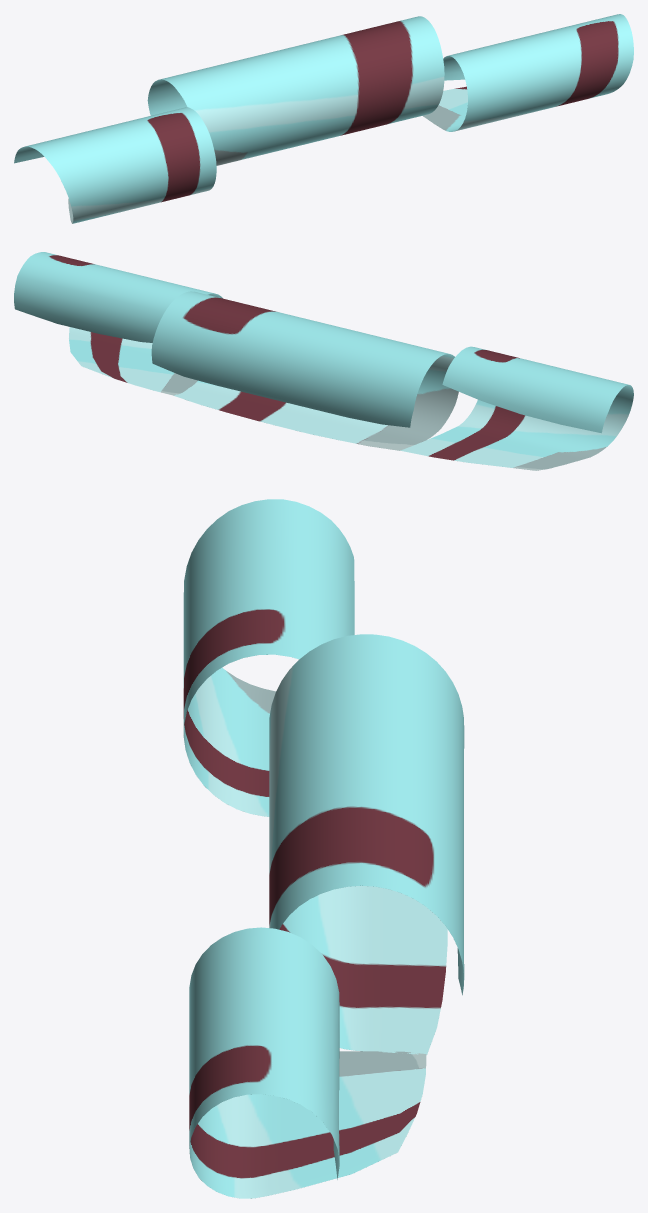
The model's file is Level 99.fbx.
3 renders of one model, top to bottom at view 1: azimuth 30°, elevation 25°; view 2: azimuth 150°, elevation 25°; view 3: azimuth 270°, elevation 25°, orthographic. The views are drawn at different scales.
Visible parts, largest first — view 1: middle_hair, right_hair, left_hair; view 2: middle_hair, left_hair, right_hair; view 3: middle_hair, right_hair, left_hair.
Part boxes in pixels (left/top/right/bottom): middle_hair: left=147, top=16, right=444, bottom=165; right_hair: left=422, top=14, right=633, bottom=131; left_hair: left=14, top=107, right=216, bottom=223; middle_hair: left=151, top=291, right=458, bottom=450; left_hair: left=400, top=346, right=633, bottom=470; right_hair: left=14, top=252, right=222, bottom=395; middle_hair: left=269, top=634, right=464, bottom=1055; right_hair: left=189, top=927, right=426, bottom=1198; left_hair: left=183, top=499, right=354, bottom=816.
Size of what is drawn, in the model's own units: 1082 by 154 by 222.
